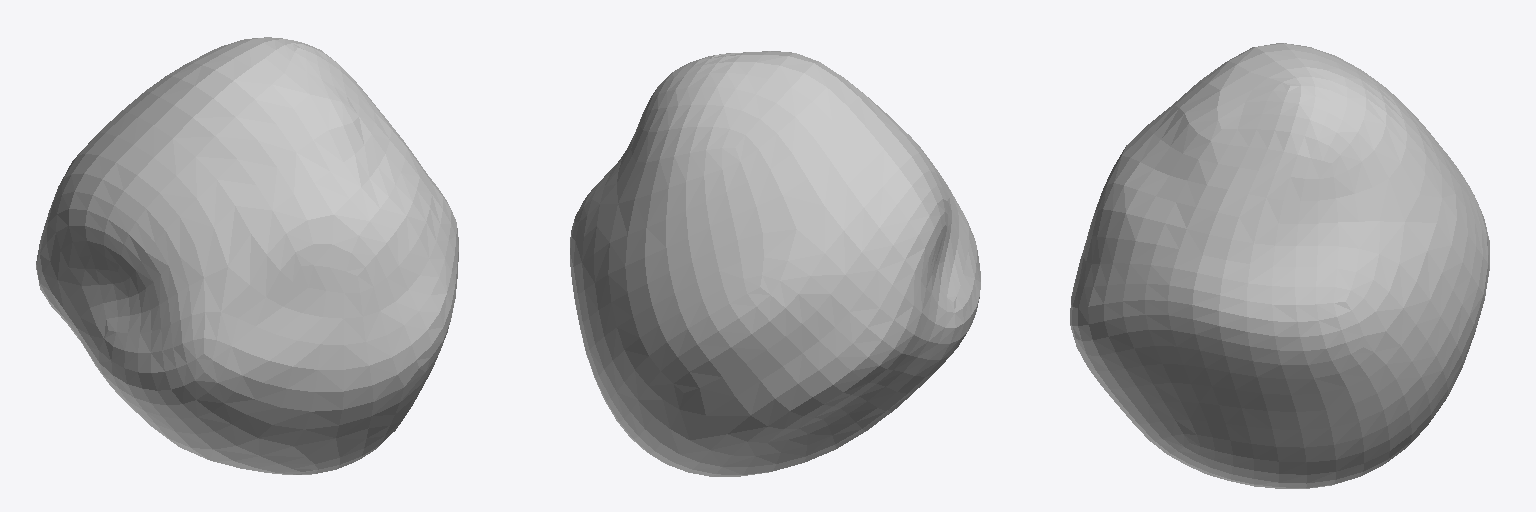
The model's file is Asteroid.obj.
The picture shows the model from 3 angles: view 1: azimuth 30°, elevation 25°; view 2: azimuth 150°, elevation 25°; view 3: azimuth 270°, elevation 25°; orthographic projection.
Visible parts, largest first — view 1: Asteroid; view 2: Asteroid; view 3: Asteroid.
Boxes of the visible parts, x1,y1,x2,y2 form: Asteroid: [36, 37, 458, 474]; Asteroid: [570, 51, 980, 476]; Asteroid: [1070, 43, 1489, 488].
Bounding box in the file's own units: 2.06 × 2.23 × 2.12.